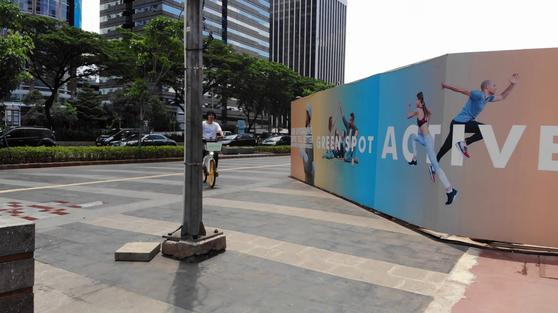bike: (185, 131, 231, 193)
